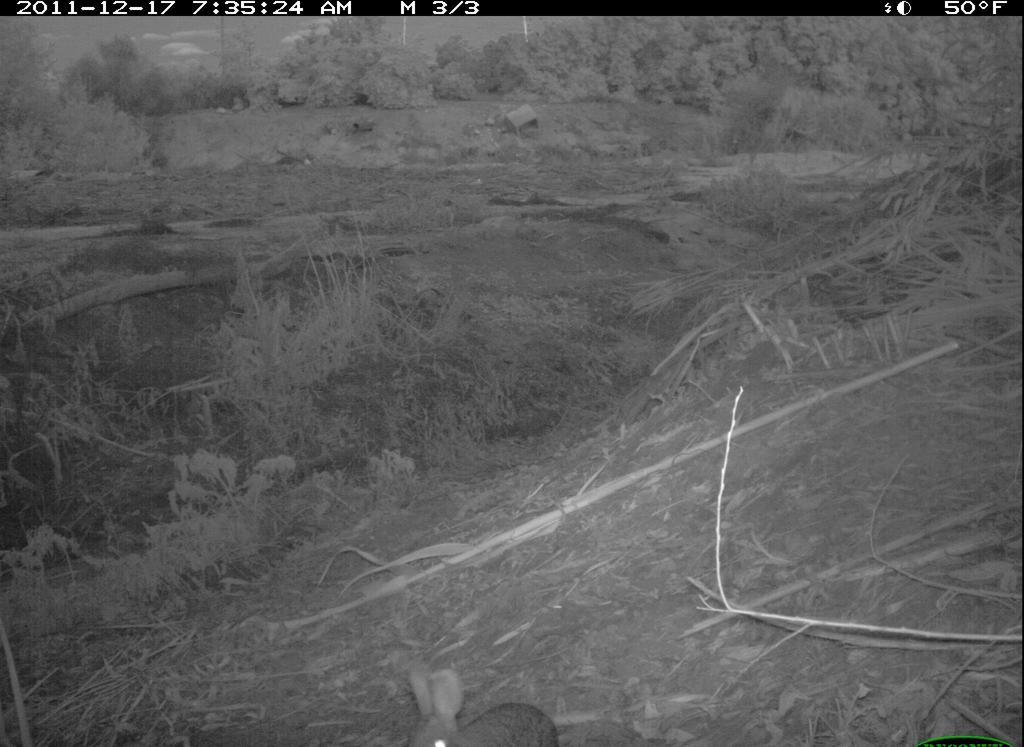rabbit: (396, 660, 573, 747)
